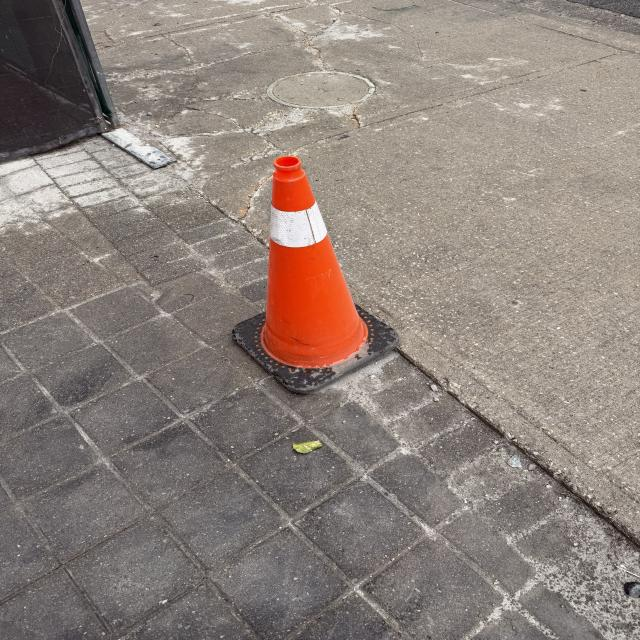Traffic Cone: (229, 155, 401, 393)
